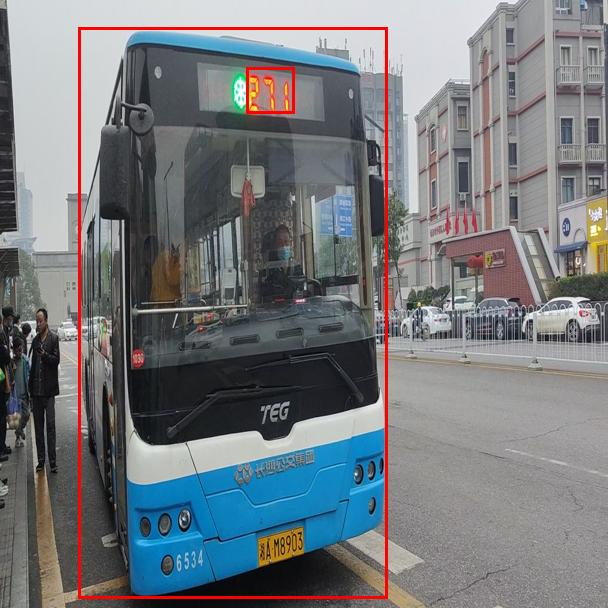bus: (78, 27, 387, 598)
screen: (246, 67, 294, 113)
